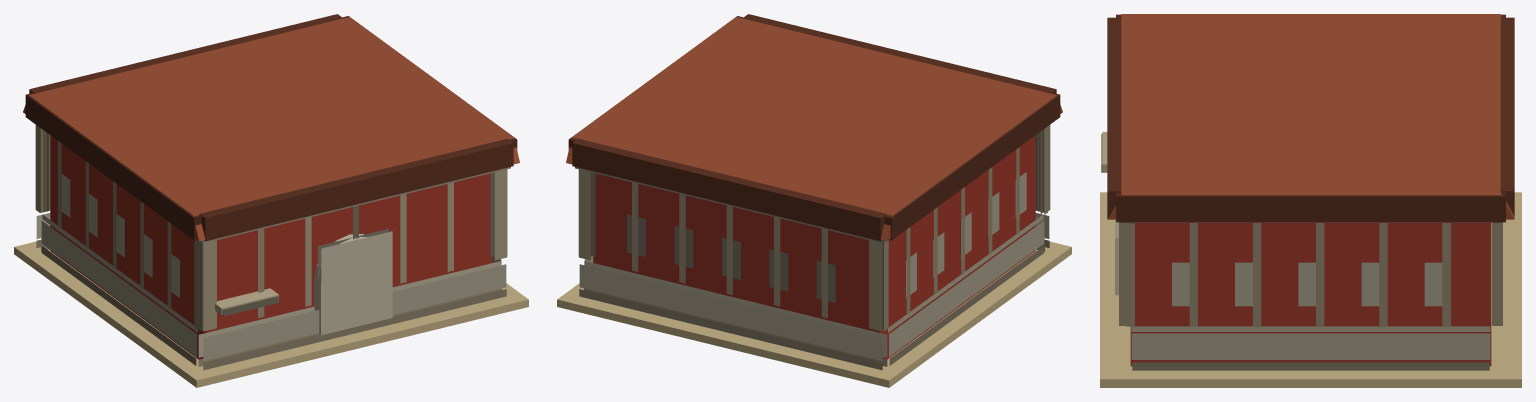
File: GladiatorHelmetSil.fbx
The picture shows the model from 3 angles, left to right: view 1: azimuth 30°, elevation 25°; view 2: azimuth 150°, elevation 25°; view 3: azimuth 270°, elevation 25°; orthographic projection. The views are drawn at different scales.
Visible parts, largest first — view 1: LU_S_All; view 2: LU_S_All; view 3: LU_S_All.
Boxes of the visible parts, bbox=[...] form: LU_S_All: bbox=[14, 14, 528, 387]; LU_S_All: bbox=[557, 14, 1071, 387]; LU_S_All: bbox=[1100, 14, 1521, 387].
Bounding box in the file's own units: 42.04 × 19.9 × 40.04.
